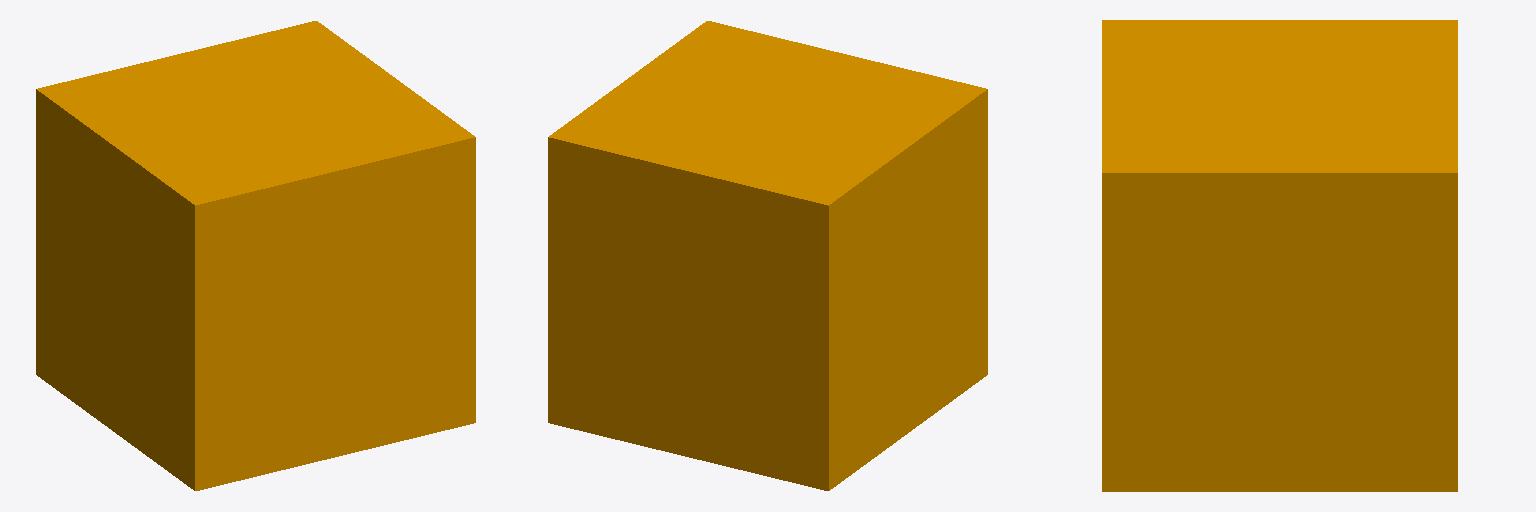
robot.urdf — object:
<?xml version="1.0"?>
<!-- Auto-generated by tools/gen_primitive_objects.py. kind=box dims=(0.069407, 0.068257, 0.067546) -->
<robot name="object">
  <link name="object">
    <visual>
      <origin xyz="0 0 0"/>
      <geometry>
        <box size="0.069407 0.068257 0.067546"/>
      </geometry>
    </visual>
    <collision>
      <origin xyz="0 0 0"/>
      <geometry>
        <box size="0.069407 0.068257 0.067546"/>
      </geometry>
    </collision>
    <inertial>
      <mass value="0.064000"/>
      <inertia ixx="0.00004918" ixy="0.0" ixz="0.0" iyy="0.00005003" iyz="0.0" izz="0.00005054"/>
    </inertial>
  </link>
</robot>

--- Render facts (derived) ---
3 views of the same robot in one strip: view 1: azimuth 30°, elevation 25°; view 2: azimuth 150°, elevation 25°; view 3: azimuth 270°, elevation 25° (orthographic).
Model object with 1 links and 0 joints (none), rooted at object, posed every joint at zero.
Visible links, largest first — view 1: object; view 2: object; view 3: object.
Boxes of the visible links, bbox=[...] form: object: bbox=[36, 21, 475, 490]; object: bbox=[548, 21, 987, 490]; object: bbox=[1102, 20, 1457, 491].
Bounding box of the posed robot: 0.0694 × 0.0683 × 0.0675 m (x, y, z).
Geometry: primitives only (box / cylinder / sphere), no mesh files.
